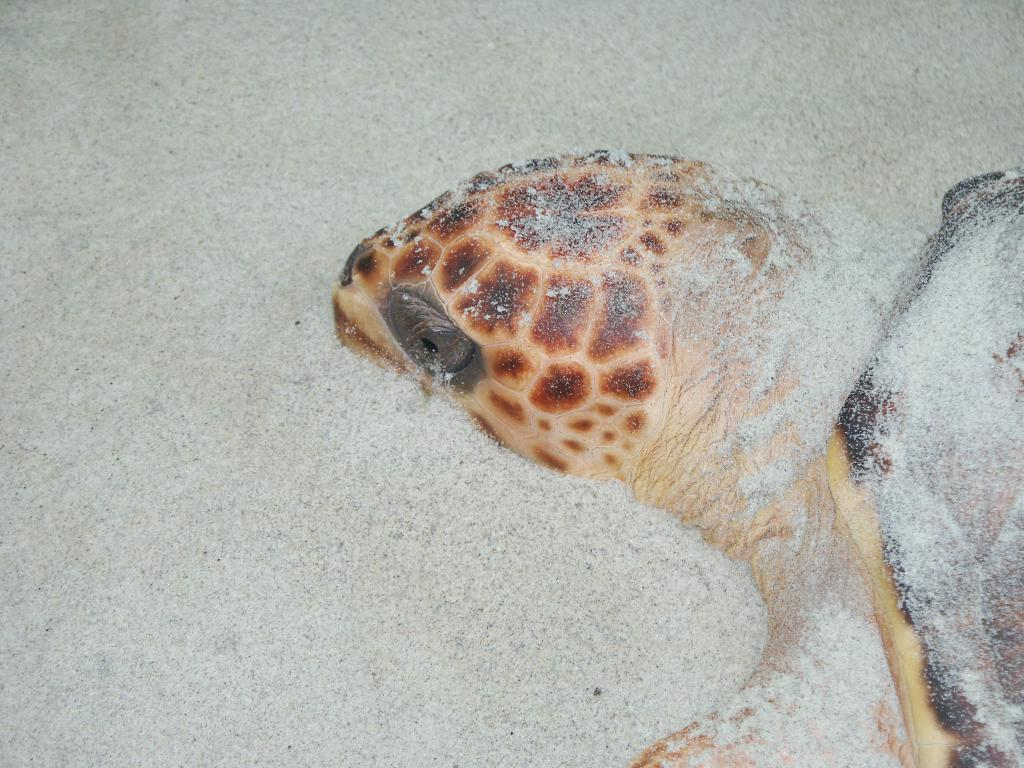Sea turtles: (330, 139, 1023, 767)
